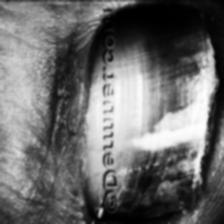Toxin: (122, 0, 222, 224)
